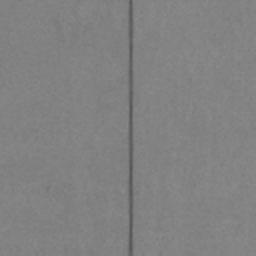Scratches: (128, 0, 134, 256)
